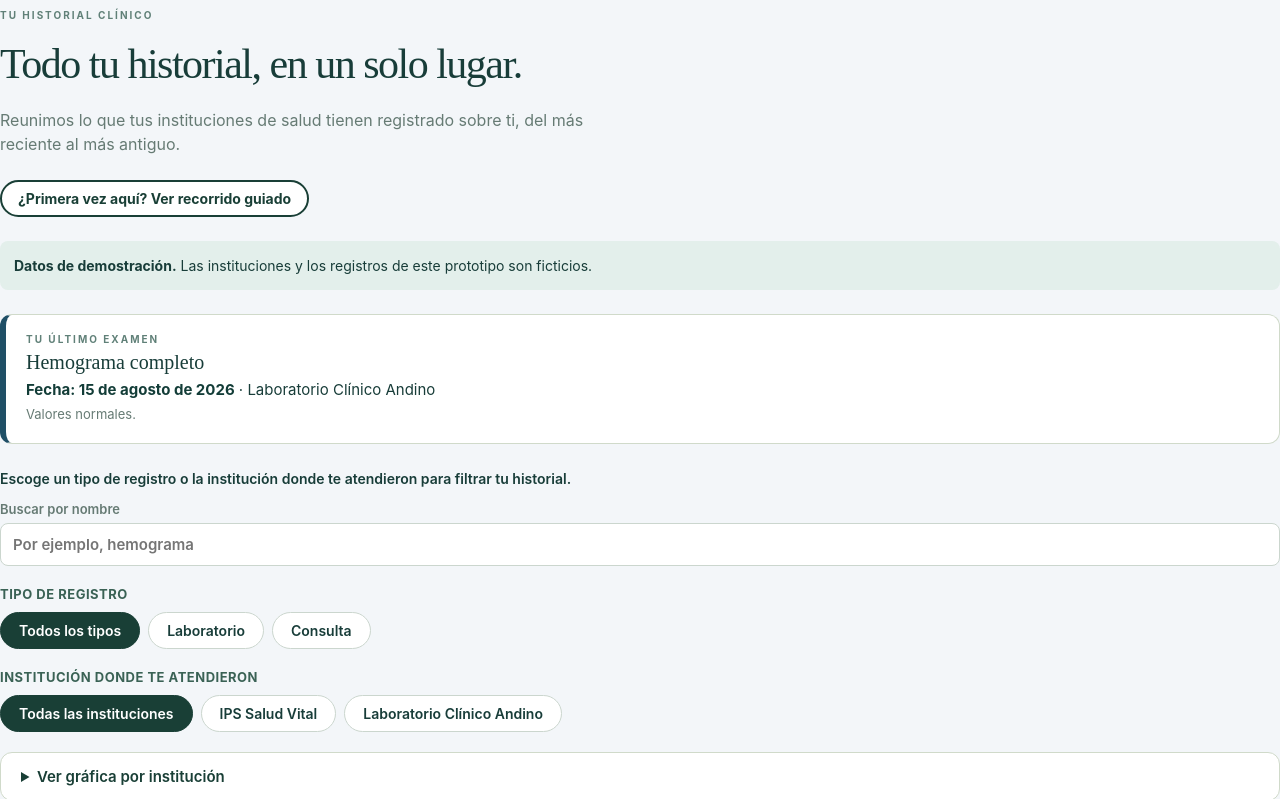
Test: Updates del Release 3 › abre el recorrido guiado paso a paso sin cambiar los filtros
Click the button "¿Primera vez aquí? Ver recorrido guiado": point(155, 199) [0,180,309,218]
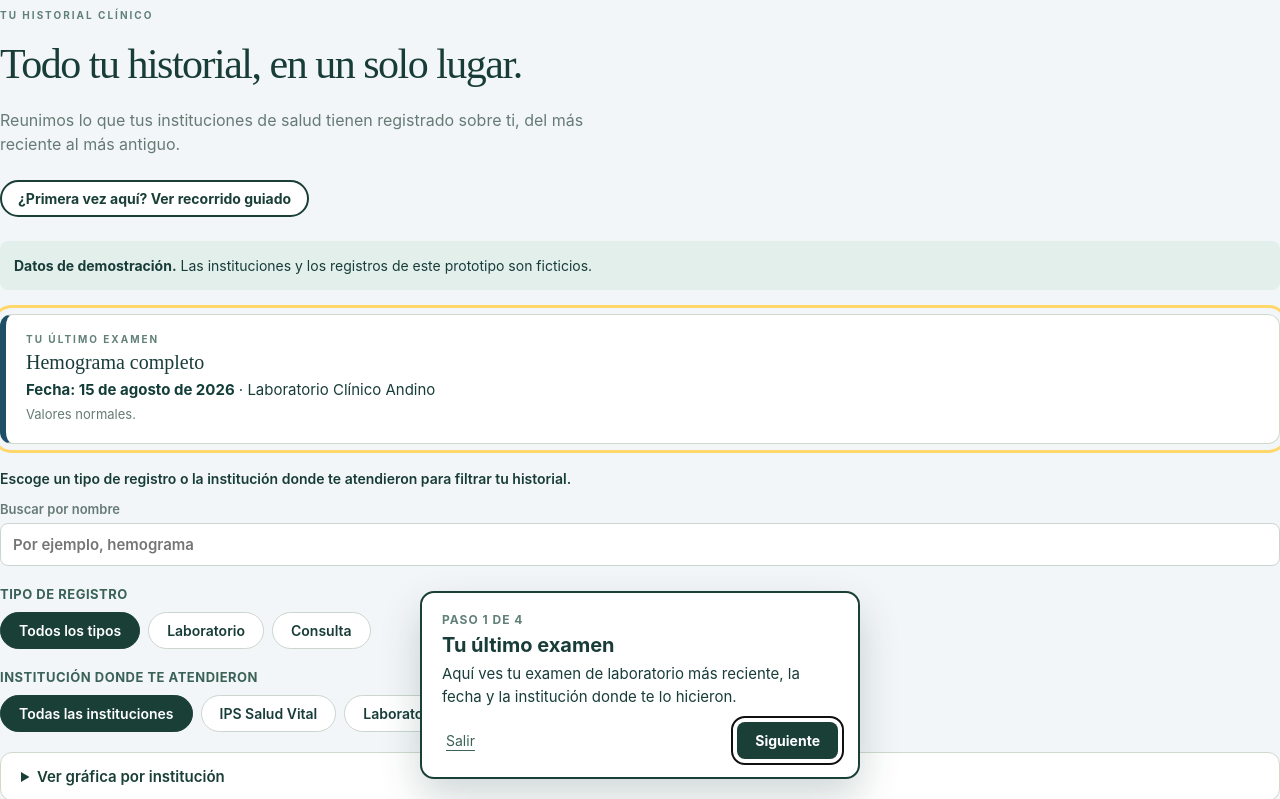
Expected: the text "Paso 1 de 4" is shown, [442,612,524,627]
Click the button "Siguiente": point(788, 740) [737,722,838,759]
(page scrolled)
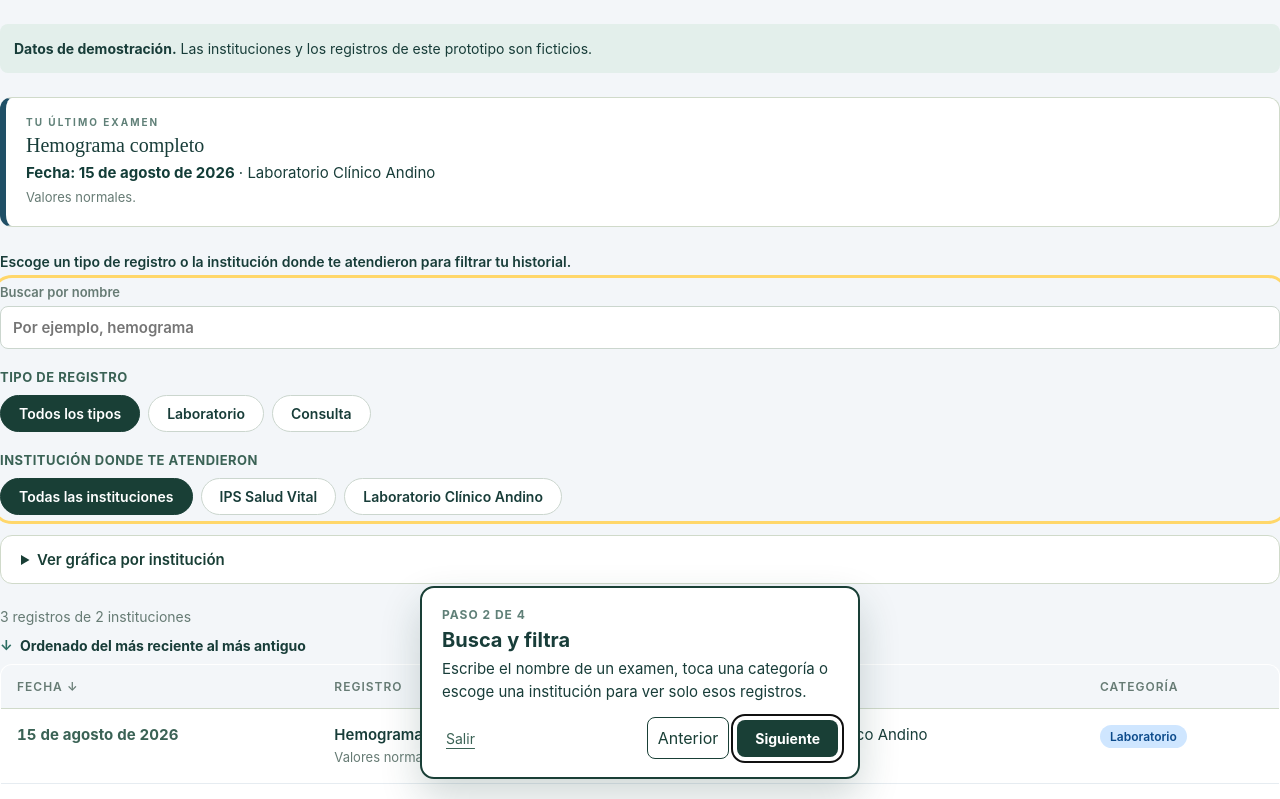
Expected: the dialog "Busca y filtra" is shown, [420,586,860,779]
Click the button "Salir": point(460, 738) [442,720,479,756]
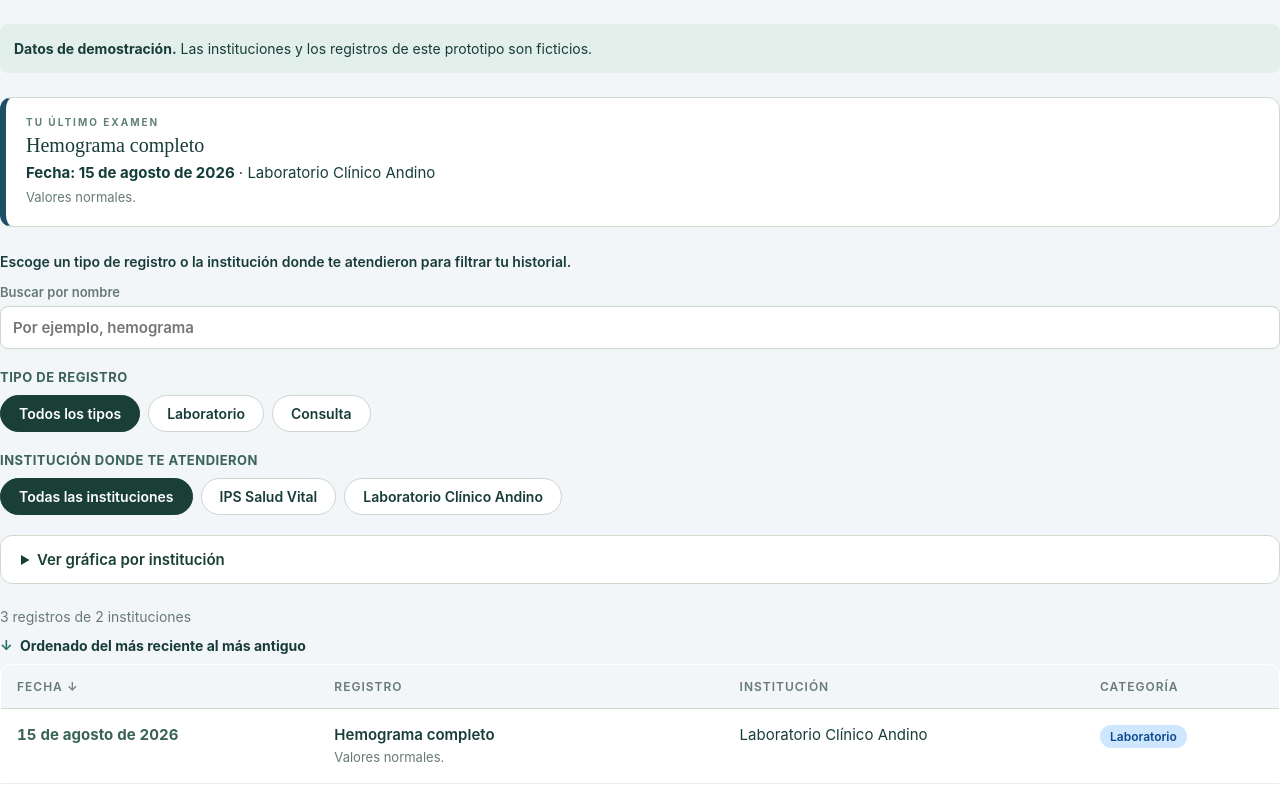
Expected: the dialog is gone
